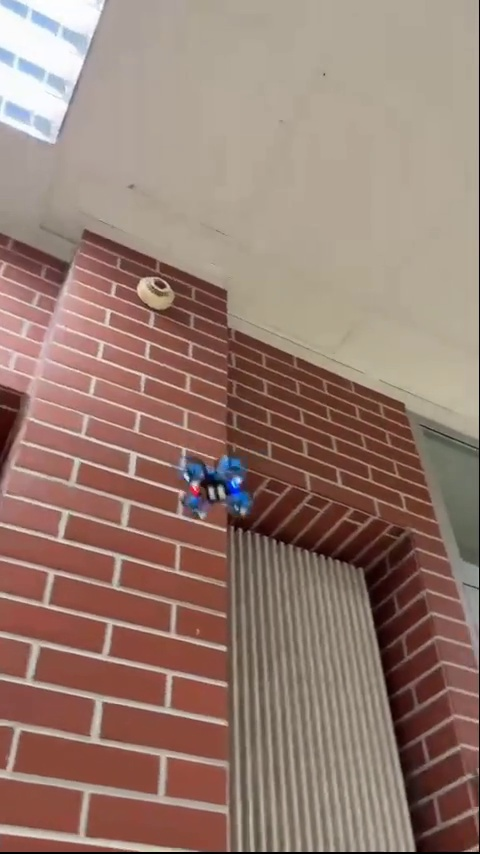drone: (179, 457, 252, 517)
